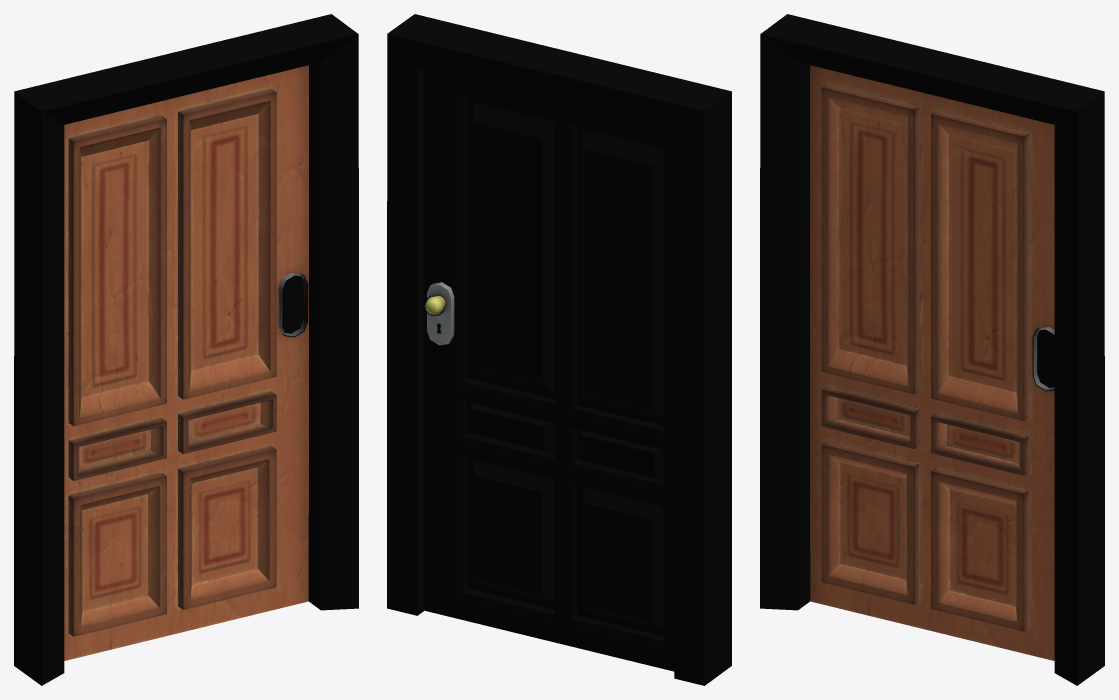
Rendered from Door.fbx.
The picture shows the model from 3 angles, left to right: view 1: azimuth 30°, elevation 25°; view 2: azimuth 150°, elevation 25°; view 3: azimuth 330°, elevation 25°; orthographic projection.
Visible parts, largest first — view 1: Door; view 2: Door; view 3: Door.
Boxes of the visible parts, left/top/right/bottom form: Door: left=14, top=14, right=358, bottom=685; Door: left=387, top=14, right=731, bottom=685; Door: left=760, top=14, right=1104, bottom=685.
Size of the model in its own units: 161 by 278 by 27.92.
